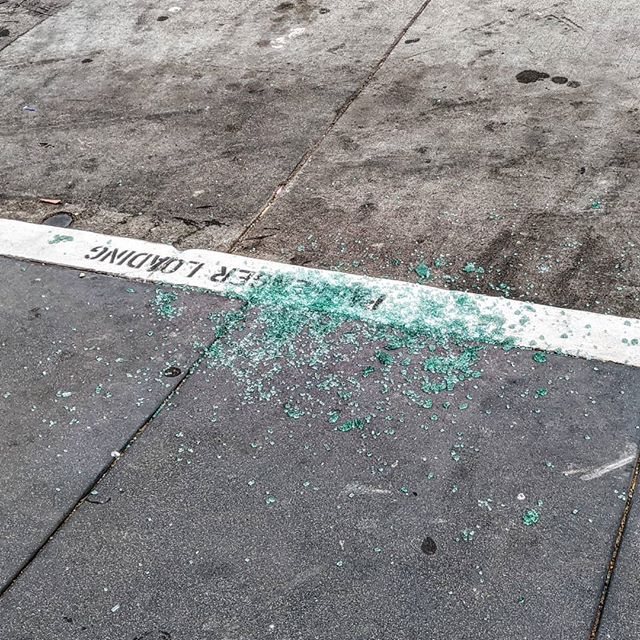trash: (115, 194, 593, 573)
